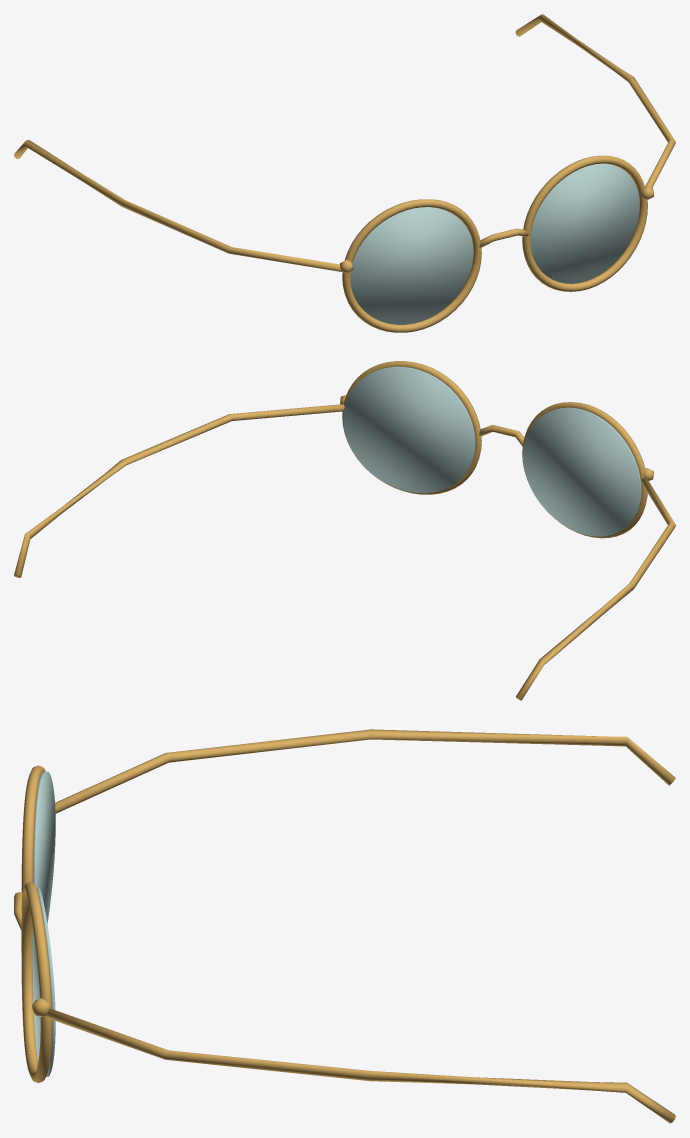
File: 01-round-wire.glb
3 views of the same model, one above another, from view 1: azimuth 30°, elevation 25°; view 2: azimuth 150°, elevation 25°; view 3: azimuth 270°, elevation 25° (orthographic). The views are drawn at different scales.
Parts seen in each view (by area): view 1: Glasses01_Lens-12, Glasses01_Lens14, Glasses01_Rim-11, Glasses01_Rim13, Glasses01_Temple-16, Glasses01_Temple18; view 2: Glasses01_Lens14, Glasses01_Lens-12, Glasses01_Temple18, Glasses01_Temple-16, Glasses01_Rim13, Glasses01_Rim-11; view 3: Glasses01_Temple-16, Glasses01_Temple18, Glasses01_Rim13, Glasses01_Lens-12, Glasses01_Rim-11, Glasses01_Lens14.
Part boxes in pixels (bbox=[...]): Glasses01_Lens-12: bbox=[350, 207, 473, 324]; Glasses01_Lens14: bbox=[530, 163, 639, 283]; Glasses01_Rim-11: bbox=[342, 199, 481, 332]; Glasses01_Rim13: bbox=[522, 155, 647, 291]; Glasses01_Temple-16: bbox=[14, 140, 341, 271]; Glasses01_Temple18: bbox=[515, 14, 675, 187]; Glasses01_Lens14: bbox=[343, 366, 475, 493]; Glasses01_Lens-12: bbox=[522, 407, 641, 536]; Glasses01_Temple18: bbox=[14, 404, 344, 577]; Glasses01_Temple-16: bbox=[516, 478, 675, 700]; Glasses01_Rim13: bbox=[342, 361, 481, 494]; Glasses01_Rim-11: bbox=[522, 402, 647, 538]; Glasses01_Temple-16: bbox=[55, 729, 675, 813]; Glasses01_Temple18: bbox=[45, 1009, 675, 1123]; Glasses01_Rim13: bbox=[21, 882, 52, 1082]; Glasses01_Lens-12: bbox=[33, 771, 55, 923]; Glasses01_Rim-11: bbox=[21, 765, 45, 892]; Glasses01_Lens14: bbox=[32, 887, 55, 1076].
Bounding box in the file's own units: 0.632 × 0.152 × 0.5044.
